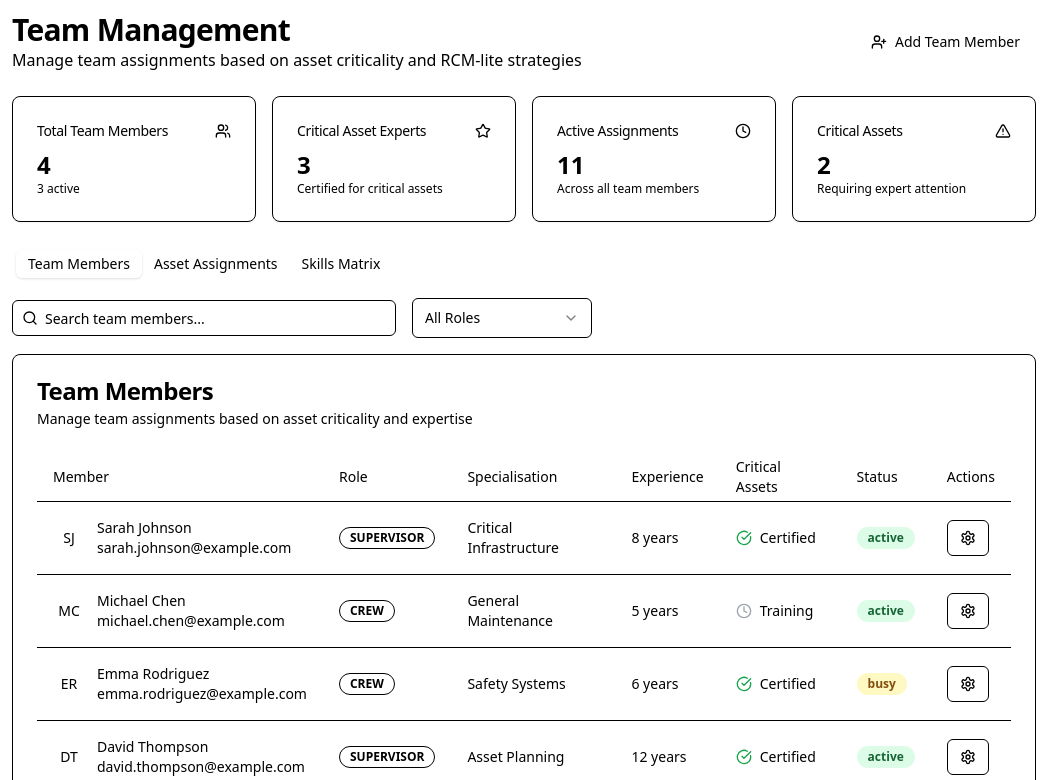
Scenario: Team Management System › Data Validation and Error Handling › should handle empty search results gracefully
Type "NonExistentUser" into the field with placeholder "Search team members...". click: (204, 318)
box: [12,300,396,336]
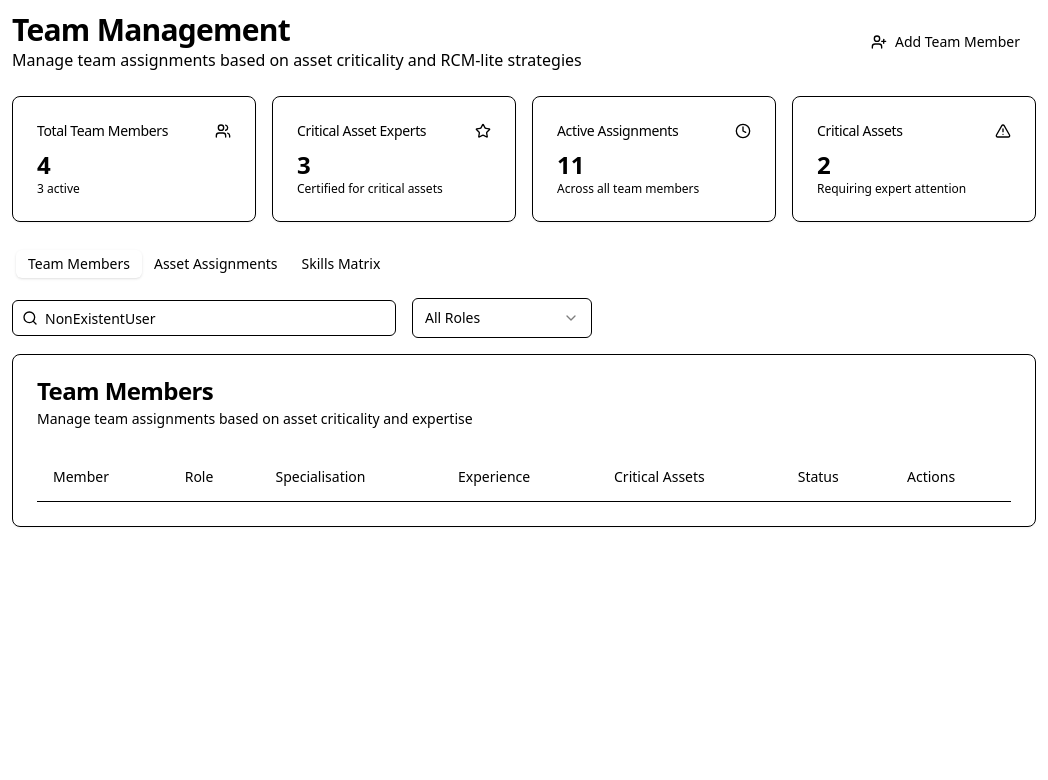
Check: the text "Sarah Johnson" is gone
Check: the text "Michael Chen" is gone
